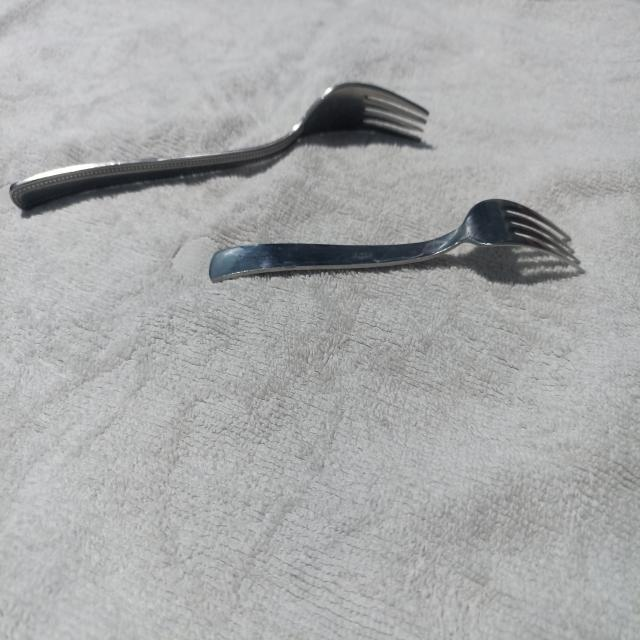spoon: (9, 83, 429, 211), (209, 198, 585, 282)
